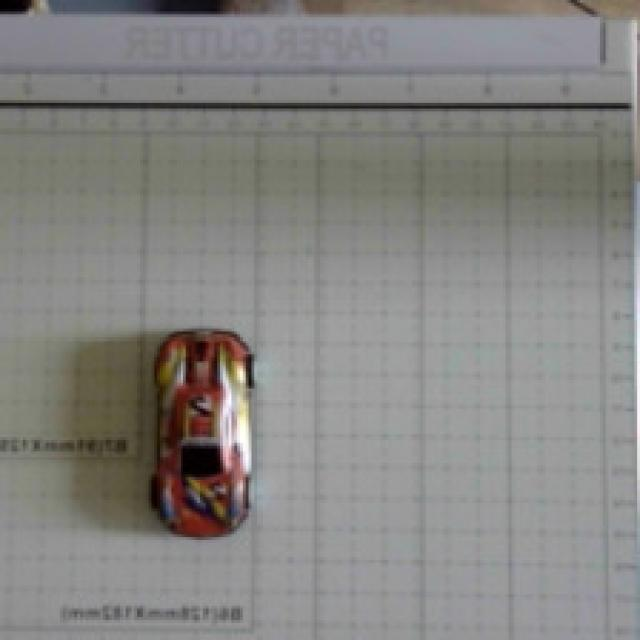Red Car: (129, 301, 308, 556)
